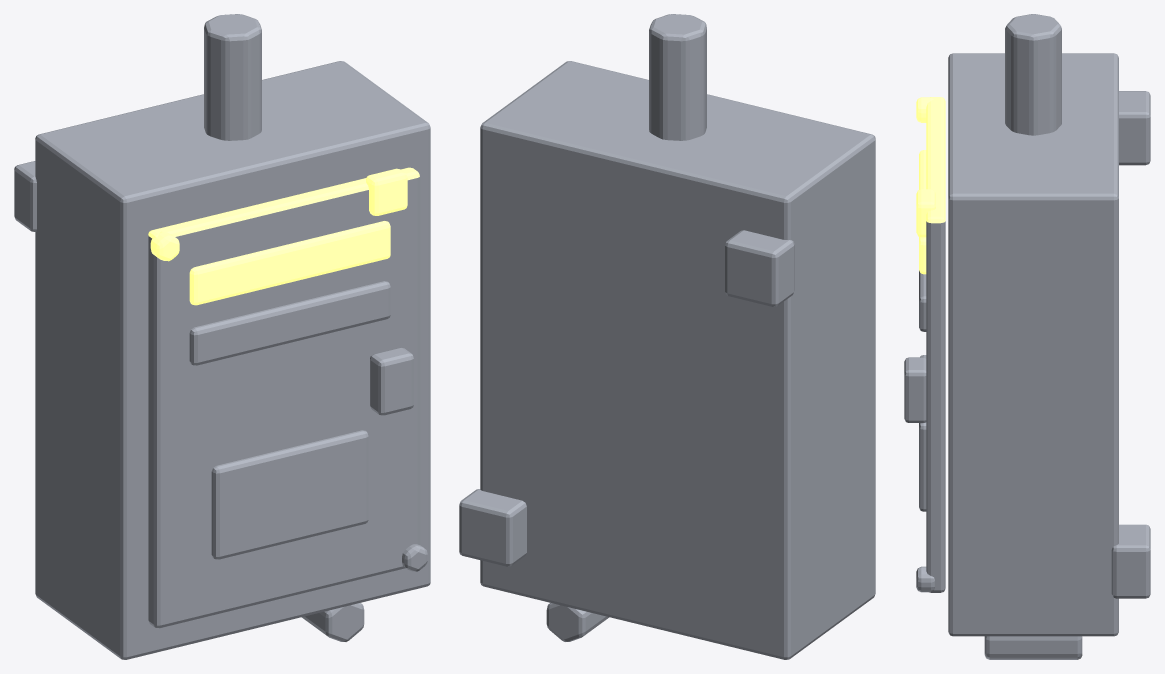
File: Hangar_PowerBox.fbx
3 views of the same model, side by side, from view 1: azimuth 30°, elevation 25°; view 2: azimuth 150°, elevation 25°; view 3: azimuth 270°, elevation 25° (orthographic). The views are drawn at different scales.
Parts seen in each view (by area): view 1: Hangar_PowerBox_Buffer; view 2: Hangar_PowerBox_Buffer; view 3: Hangar_PowerBox_Buffer.
Part boxes in pixels (x1,y1,x2,y2): Hangar_PowerBox_Buffer: [14, 14, 430, 659]; Hangar_PowerBox_Buffer: [459, 14, 875, 659]; Hangar_PowerBox_Buffer: [904, 14, 1150, 659].
Size of the model in its own units: 0.72 by 1.34 by 0.505.
